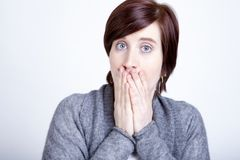face: (107, 24, 163, 89)
